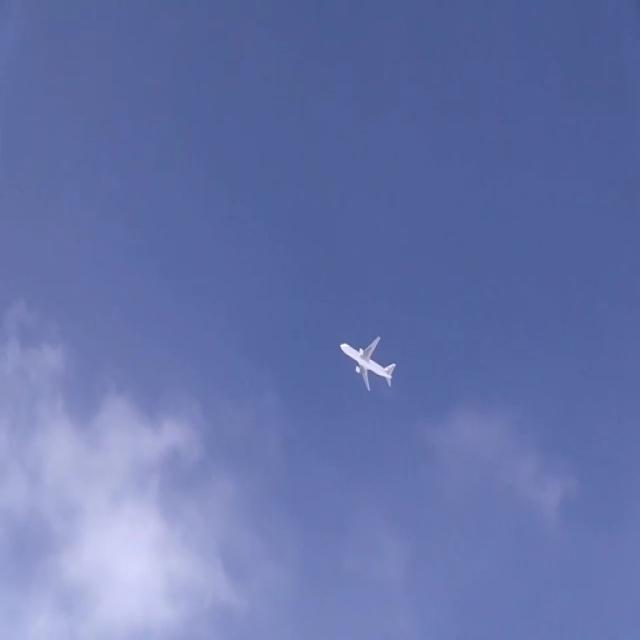AirPlane: (332, 321, 406, 401)
